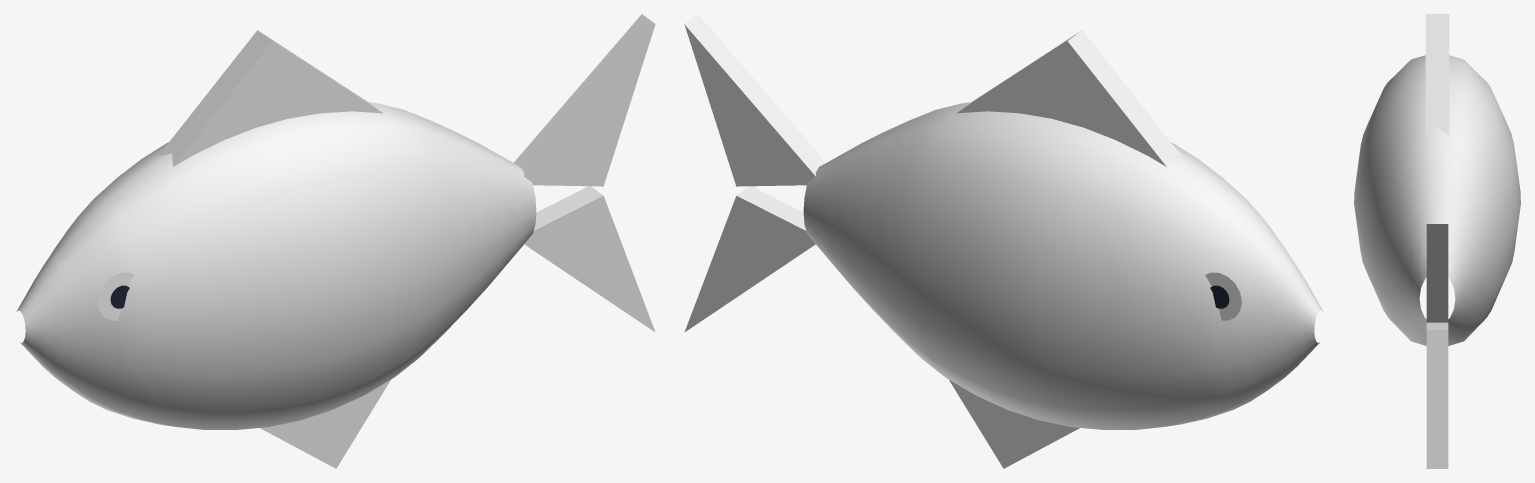
Rendered from coral.glb.
3 views of the same model, side by side, from view 1: azimuth 30°, elevation 25°; view 2: azimuth 150°, elevation 25°; view 3: azimuth 270°, elevation 25° (orthographic). The views are drawn at different scales.
Parts seen in each view (by area): view 1: body, tail-pivot; view 2: body, tail-pivot; view 3: body, tail-pivot.
Part boxes in pixels (left/top/right/bottom): body: left=16, top=30, right=536, bottom=468; tail-pivot: left=514, top=14, right=655, bottom=332; body: left=803, top=30, right=1323, bottom=468; tail-pivot: left=684, top=14, right=825, bottom=332; body: left=1354, top=14, right=1520, bottom=345; tail-pivot: left=1426, top=224, right=1448, bottom=468.
Bounding box in the file's own units: 2.9 × 1.96 × 0.84.
2 materials, 1 textured.
